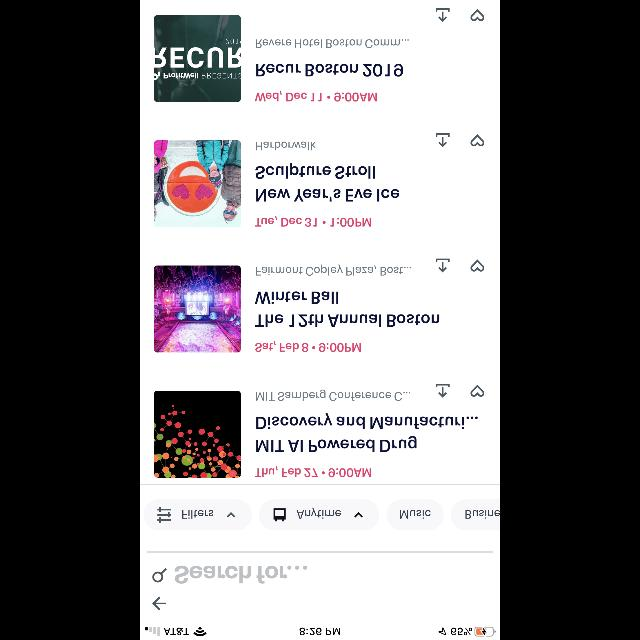icon: (152, 568, 168, 582), (152, 596, 166, 610), (436, 8, 450, 22), (435, 383, 449, 397), (436, 259, 450, 273), (436, 133, 450, 147), (470, 9, 484, 21), (471, 384, 485, 396), (470, 259, 484, 271), (470, 134, 484, 146)
image: (154, 390, 242, 478), (154, 140, 242, 228), (154, 266, 242, 352), (154, 16, 242, 102)
input: (147, 550, 493, 584)
text: (256, 413, 478, 452), (255, 291, 439, 327), (255, 162, 399, 202), (256, 264, 412, 276), (255, 389, 410, 401), (256, 64, 404, 76), (255, 90, 377, 102), (255, 466, 371, 478), (255, 215, 371, 227), (256, 40, 408, 49), (255, 342, 361, 352), (256, 142, 316, 150)
textbutton: (259, 498, 379, 530), (144, 498, 252, 530), (386, 500, 444, 530), (450, 500, 500, 530)
uppertaskbar: (140, 626, 500, 640)
